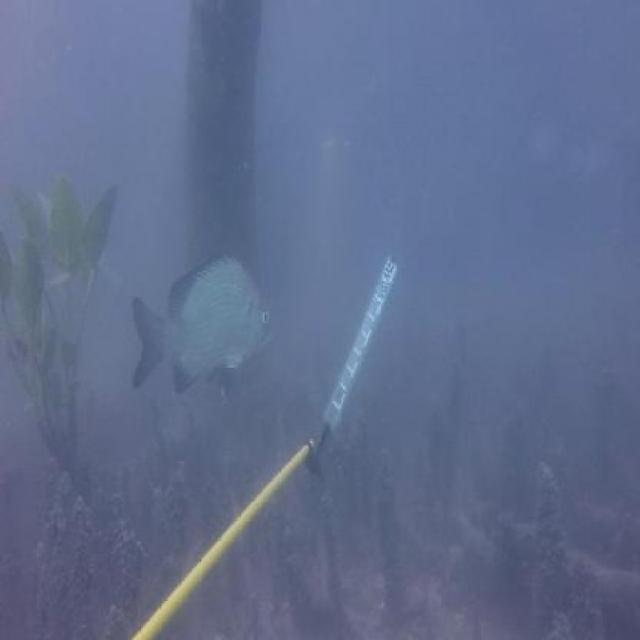acanthopagrus_palmaris: (130, 248, 281, 402)
